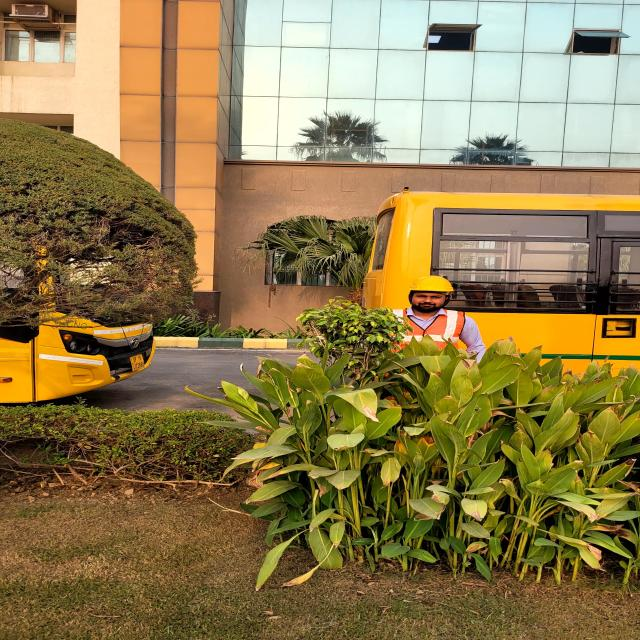safe: (390, 274, 488, 362)
